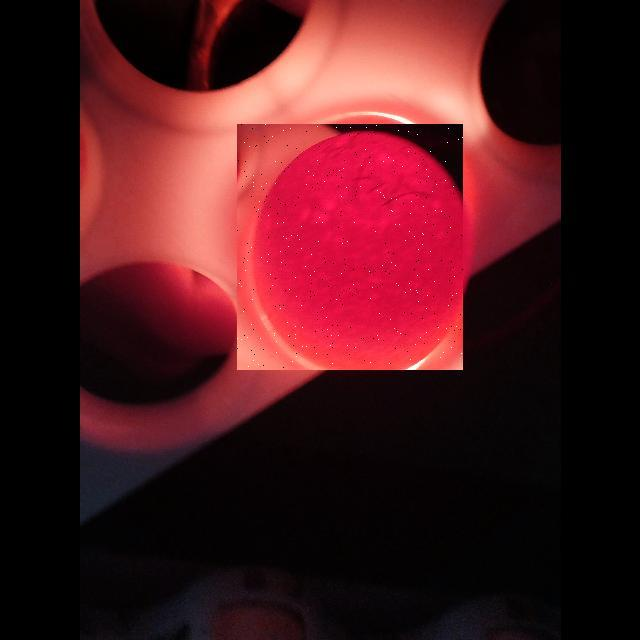Infertile: (237, 124, 463, 370)
